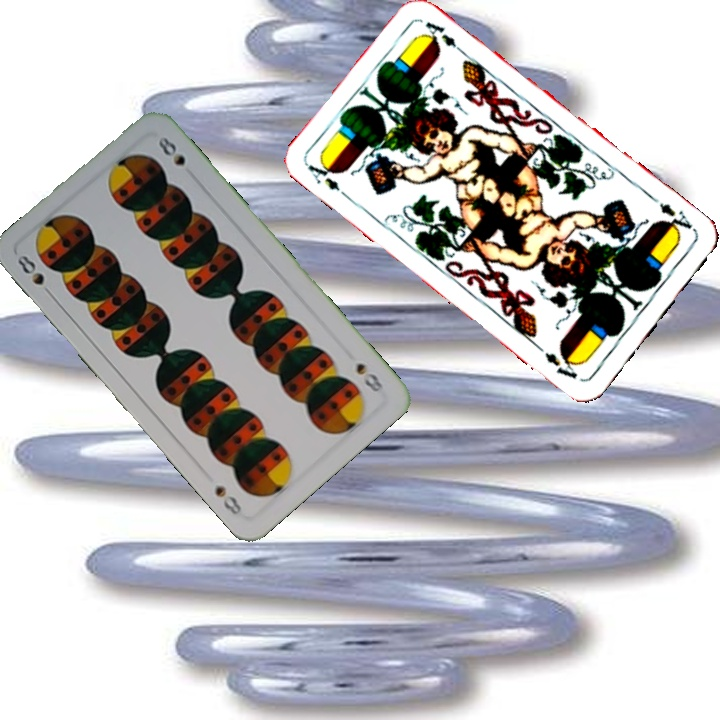EA: (303, 156, 354, 203), (655, 198, 699, 239)
S8: (13, 250, 47, 288), (352, 359, 386, 395)
